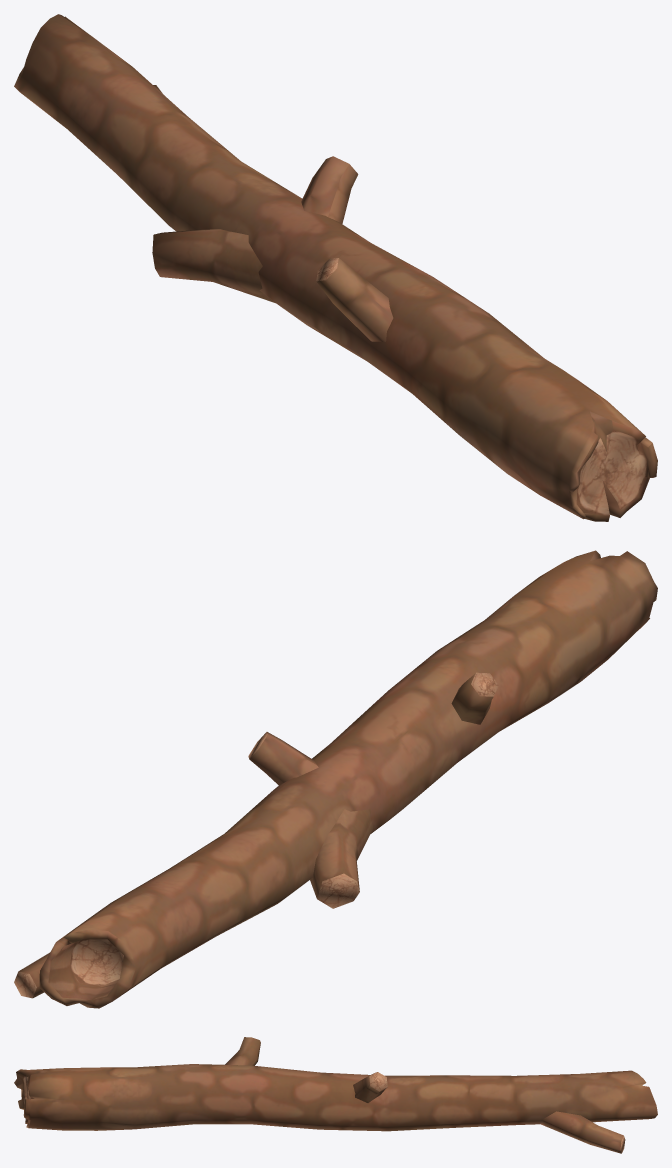
File: P_FirFallen1.obj
3 renders of one model, top to bottom at view 1: azimuth 30°, elevation 25°; view 2: azimuth 150°, elevation 25°; view 3: azimuth 270°, elevation 25°, orthographic. The views are drawn at different scales.
Size of the model in its own units: 1.86 by 1.29 by 9.92.
